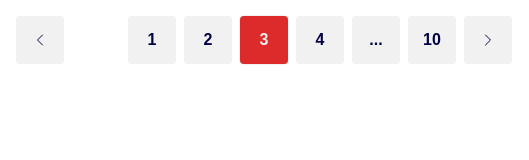
Test: <Pagination /> › Should be able to change especific page
This screenshot has width=529, height=160.
Check: the text "1" is shown once, box [128,16,176,64]
Check: the text "2" is shown once, box [184,16,232,64]
Click the text "10": (432, 40) [408,16,456,64]
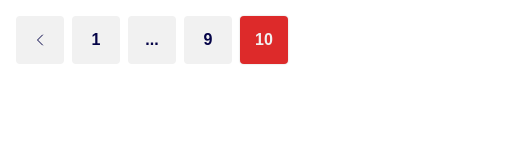
Check: the text "..." is shown once, box [128,16,176,64]
Check: the text "9" is shown once, box [184,16,232,64]
Check: the text "10" is shown once, box [240,16,288,64]
